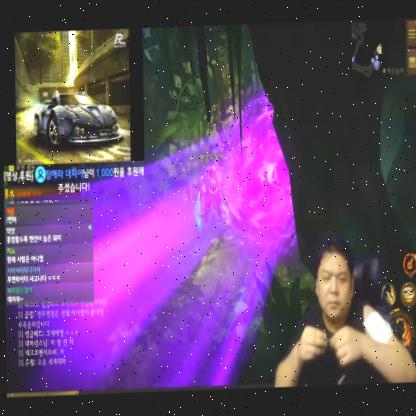donation: (0, 22, 144, 196)
streamer: (268, 234, 416, 388)
